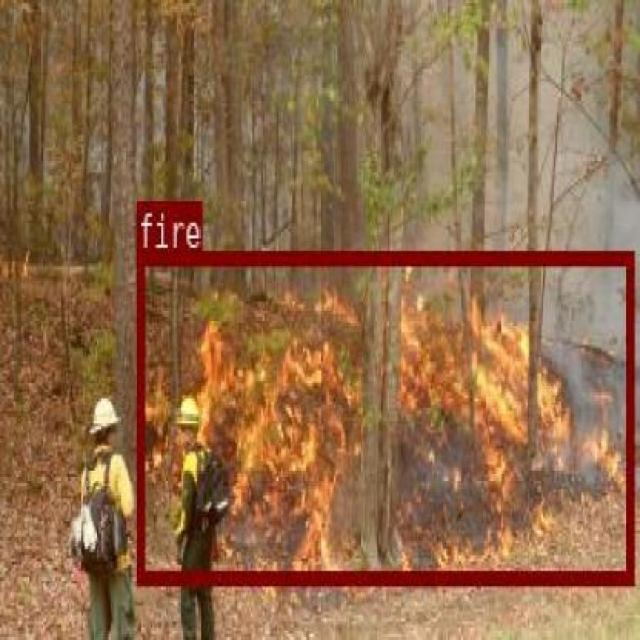Fire: (136, 250, 632, 581)
